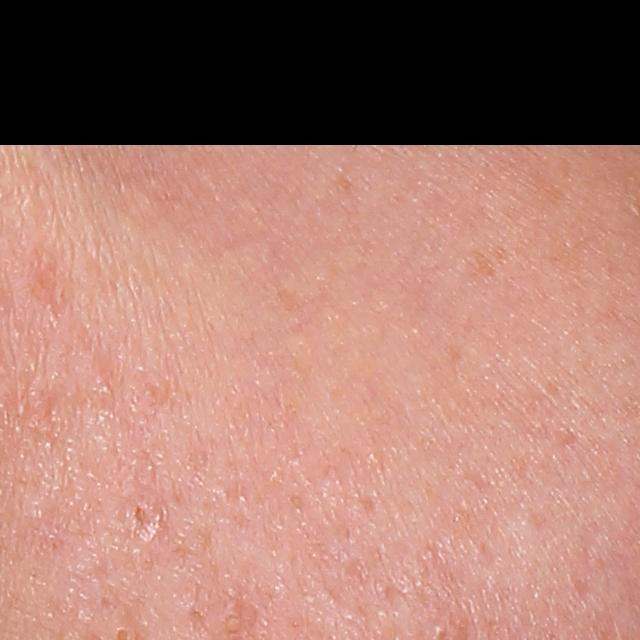melasma: (462, 241, 511, 283)
